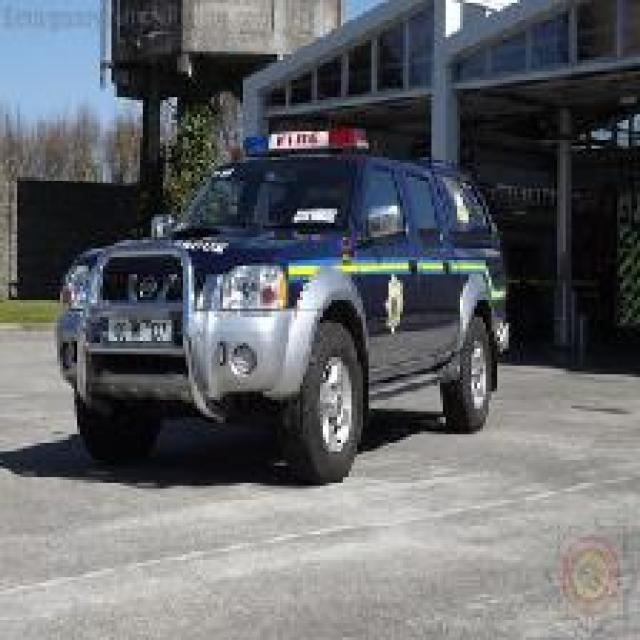emergency: (49, 123, 515, 483)
